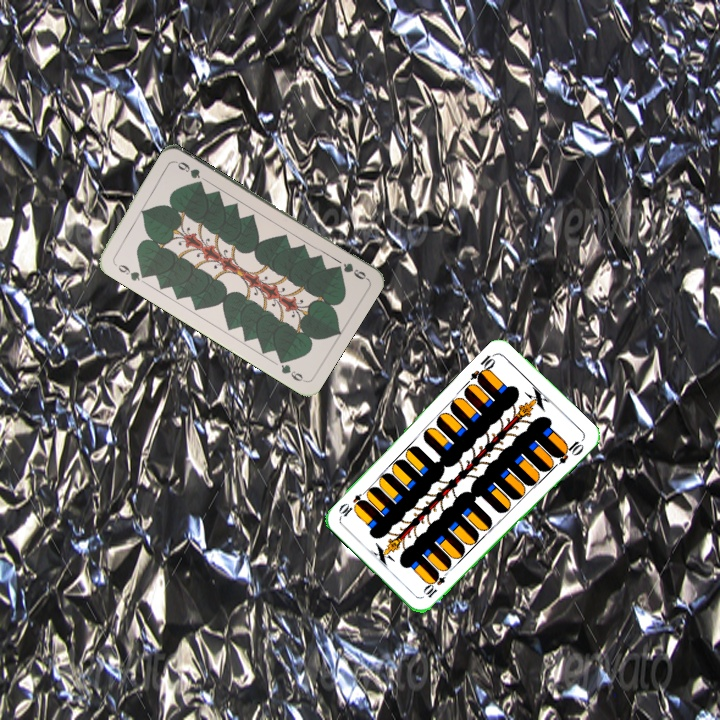E10: (467, 349, 499, 386), (420, 566, 452, 601)
G9: (332, 259, 370, 282), (114, 260, 149, 284)
